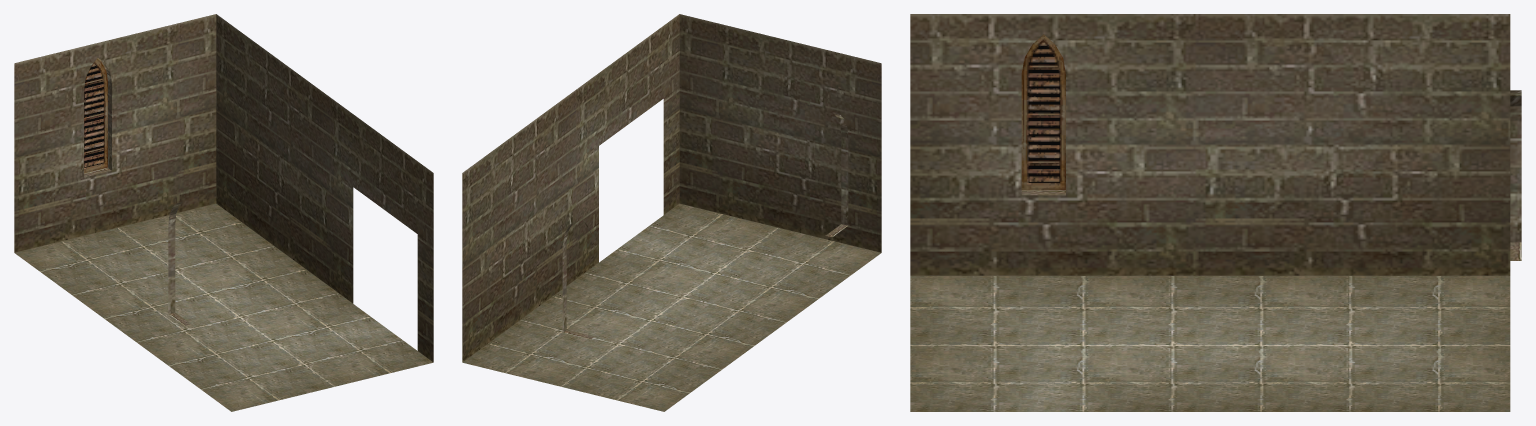
The model's file is Mission8_VillageRadioShackInt_A.glb.
The picture shows the model from 3 angles, left to right: view 1: azimuth 30°, elevation 25°; view 2: azimuth 150°, elevation 25°; view 3: azimuth 270°, elevation 25°; orthographic projection. The views are drawn at different scales.
Visible parts, largest first — view 1: MISSION8_VILLAGERADIOSHACKINT_A; view 2: MISSION8_VILLAGERADIOSHACKINT_A; view 3: MISSION8_VILLAGERADIOSHACKINT_A.
Boxes of the visible parts, x1,y1,x2,y2 form: MISSION8_VILLAGERADIOSHACKINT_A: [14, 14, 433, 411]; MISSION8_VILLAGERADIOSHACKINT_A: [462, 14, 881, 411]; MISSION8_VILLAGERADIOSHACKINT_A: [910, 14, 1521, 411].
Bounding box in the file's own units: 3.75 × 3.25 × 6.88.
4 materials, 4 textured.
